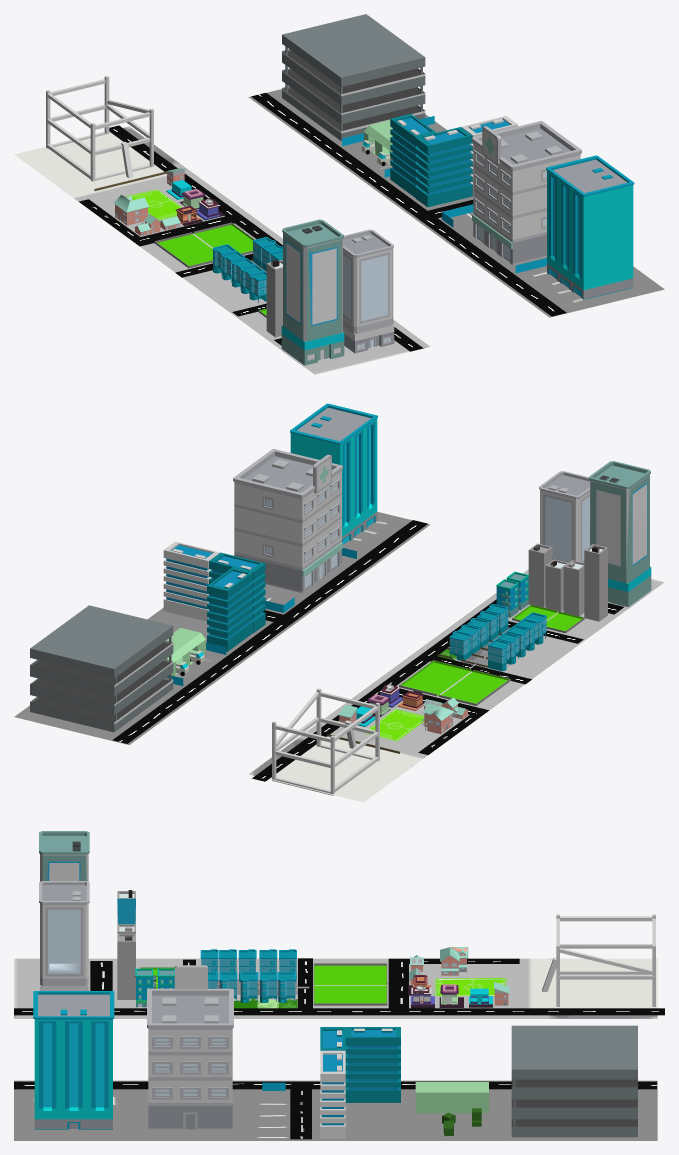
The model's file is mycity_ForSide2Side.fbx.
3 views of the same model, one above another, from view 1: azimuth 30°, elevation 25°; view 2: azimuth 150°, elevation 25°; view 3: azimuth 270°, elevation 25° (orthographic). The views are drawn at different scales.
Parts seen in each view (by area): view 1: Cube.020, Cube.018, skyscraperF, large_buildingD, skyscraperA.001, Cube.039, skyscraperA, Plane.049, low_buildingN, Plane.002, Plane, low_buildingN.001 (+5 smaller); view 2: Cube.020, Cube.018, large_buildingD, skyscraperA.001, skyscraperF, Cube.039, Plane.049, skyscraperA, Plane.002, low_buildingN.002, low_buildingN.001, Plane (+12 smaller); view 3: Cube.039, Cube.018, Cube.020, large_buildingD, skyscraperF, Plane.002, skyscraperA, low_buildingN.001, Plane, Plane.049, skyscraperA.001, Cube.019 (+14 smaller).
Boxes of the visible parts, left/top/right/bottom form: Cube.020: left=282, top=14, right=425, bottom=140; Cube.018: left=14, top=126, right=430, bottom=374; skyscraperF: left=546, top=155, right=634, bottom=299; large_buildingD: left=472, top=121, right=581, bottom=265; skyscraperA.001: left=281, top=219, right=344, bottom=366; Cube.039: left=248, top=89, right=664, bottom=317; skyscraperA: left=343, top=229, right=394, bottom=353; Plane.049: left=251, top=93, right=566, bottom=316; low_buildingN: left=415, top=127, right=472, bottom=207; Plane.002: left=79, top=125, right=423, bottom=351; Plane: left=154, top=222, right=254, bottom=268; low_buildingN.001: left=390, top=114, right=436, bottom=197; Cube.020: left=30, top=605, right=173, bottom=732; Cube.018: left=249, top=569, right=664, bottom=802; large_buildingD: left=233, top=449, right=342, bottom=593; skyscraperA.001: left=589, top=461, right=651, bottom=607; skyscraperF: left=290, top=403, right=377, bottom=544; Cube.039: left=14, top=512, right=429, bottom=744; Plane.049: left=112, top=520, right=427, bottom=743; skyscraperA: left=539, top=471, right=589, bottom=562; Plane.002: left=252, top=599, right=623, bottom=781; low_buildingN.002: left=163, top=541, right=220, bottom=621; low_buildingN.001: left=207, top=567, right=253, bottom=651; Plane: left=399, top=660, right=510, bottom=705; Cube.039: left=14, top=1080, right=657, bottom=1140; Cube.018: left=14, top=958, right=657, bottom=1018; Cube.020: left=511, top=1025, right=637, bottom=1137; large_buildingD: left=147, top=988, right=233, bottom=1129; skyscraperF: left=33, top=991, right=114, bottom=1129; Plane.002: left=14, top=958, right=664, bottom=1015; skyscraperA: left=39, top=881, right=89, bottom=990; low_buildingN.001: left=345, top=1027, right=400, bottom=1102; Plane: left=313, top=963, right=387, bottom=1005; Plane.049: left=14, top=1081, right=656, bottom=1139; skyscraperA.001: left=39, top=831, right=89, bottom=881; Cube.019: left=415, top=1082, right=488, bottom=1113.
Size of the model in its own units: 2014 by 682 by 3035.
